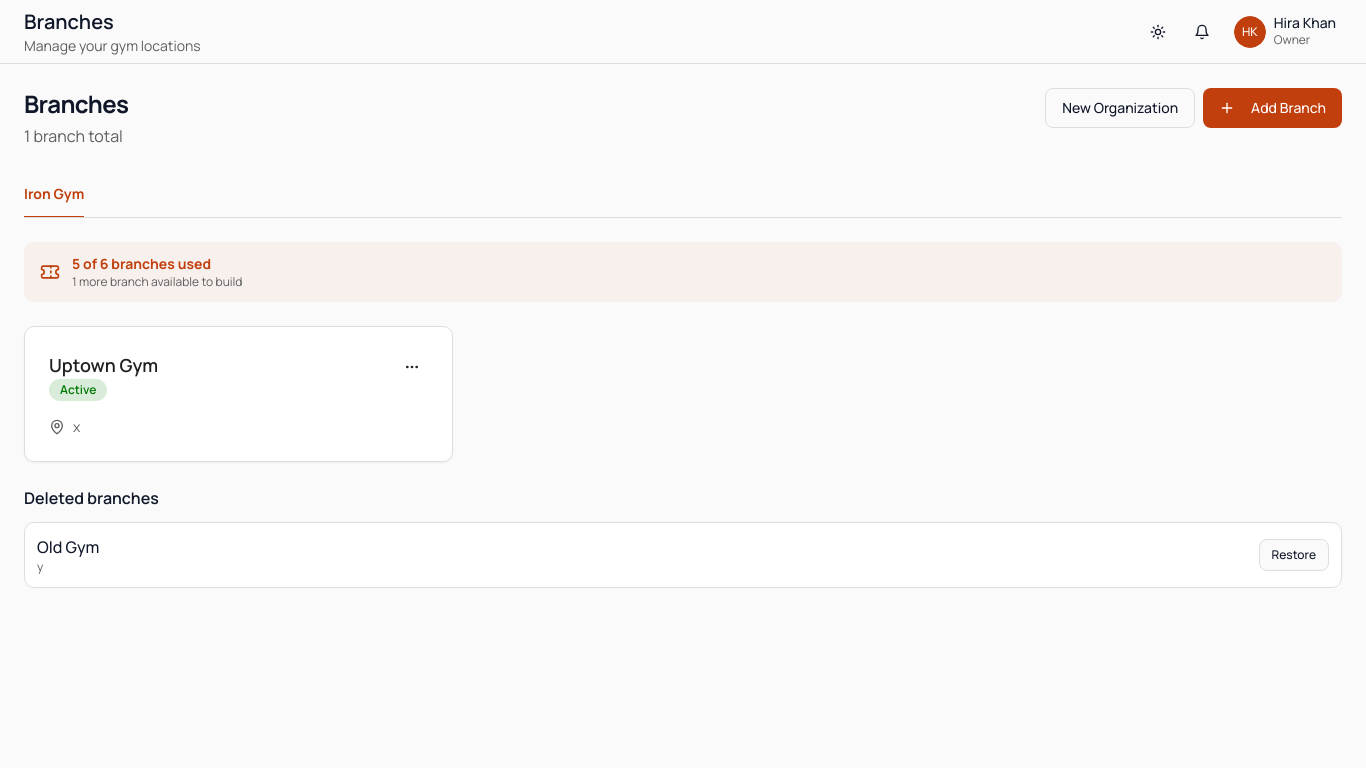
Restore branch (mobile listing_branches_screen) › any other refusal shows its reason in the list
Click the button with aria-label "restore old gym": click(1294, 555) [1258,539,1329,571]
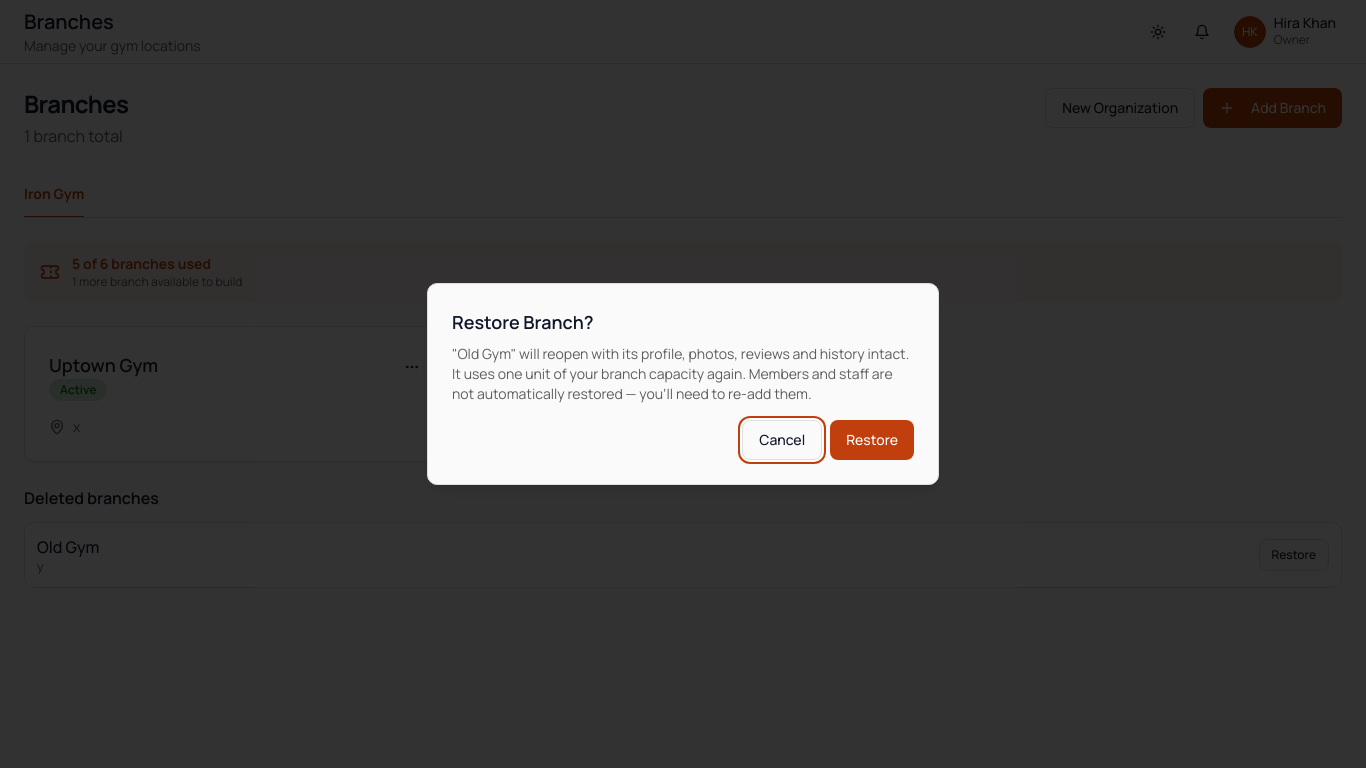
Click the button "Restore": click(872, 440) [830,420,914,460]
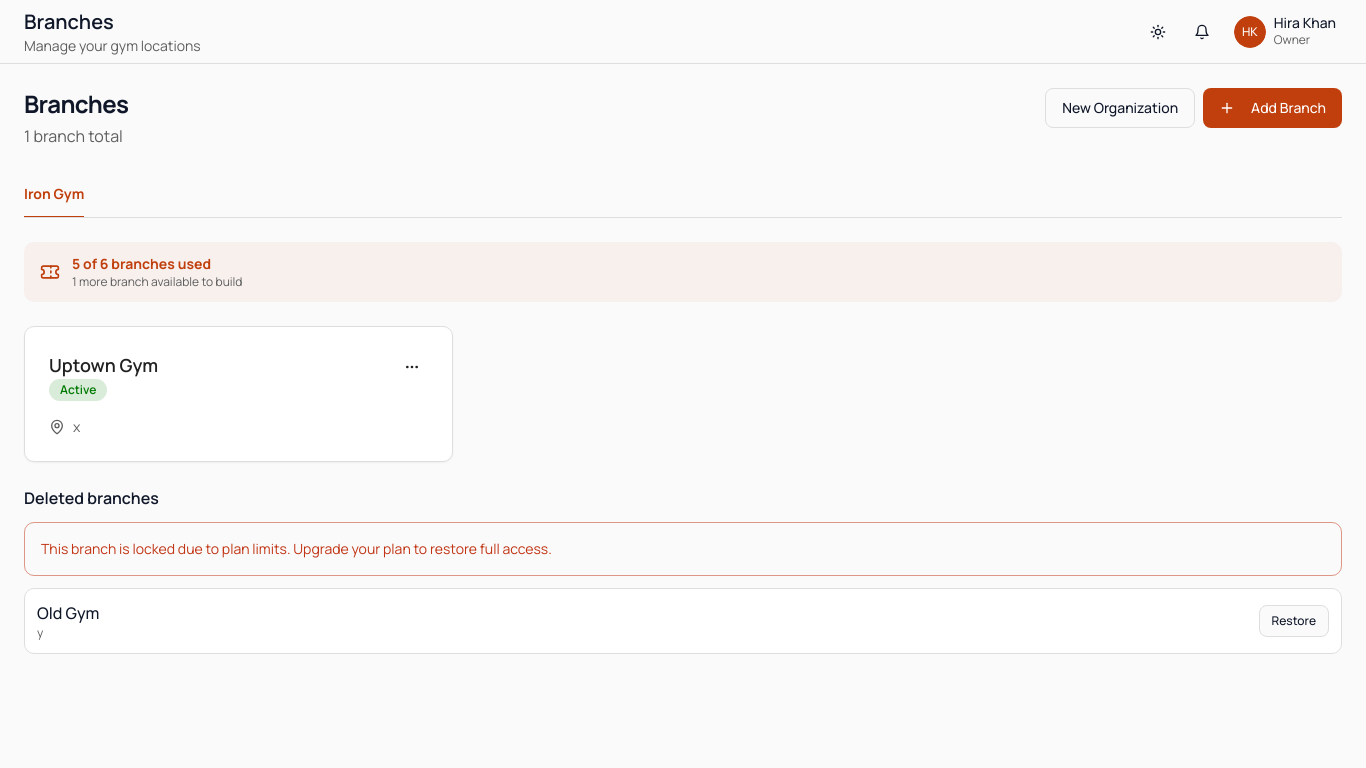
expect the message with test id "restore-error" shows "locked due to plan limits": met, box [41,539,552,558]
